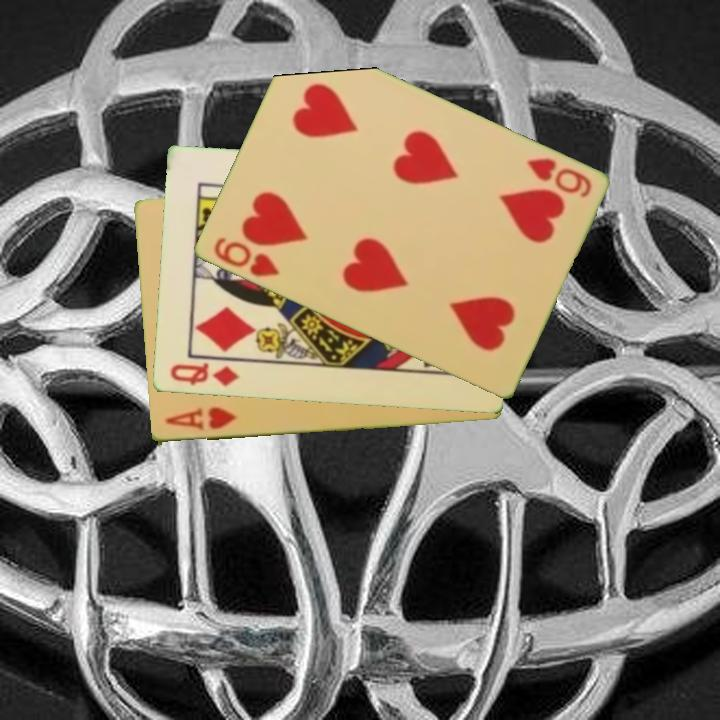6h: (209, 234, 282, 281), (522, 154, 594, 201)
Ah: (161, 404, 239, 433)
Qd: (166, 359, 242, 389)
